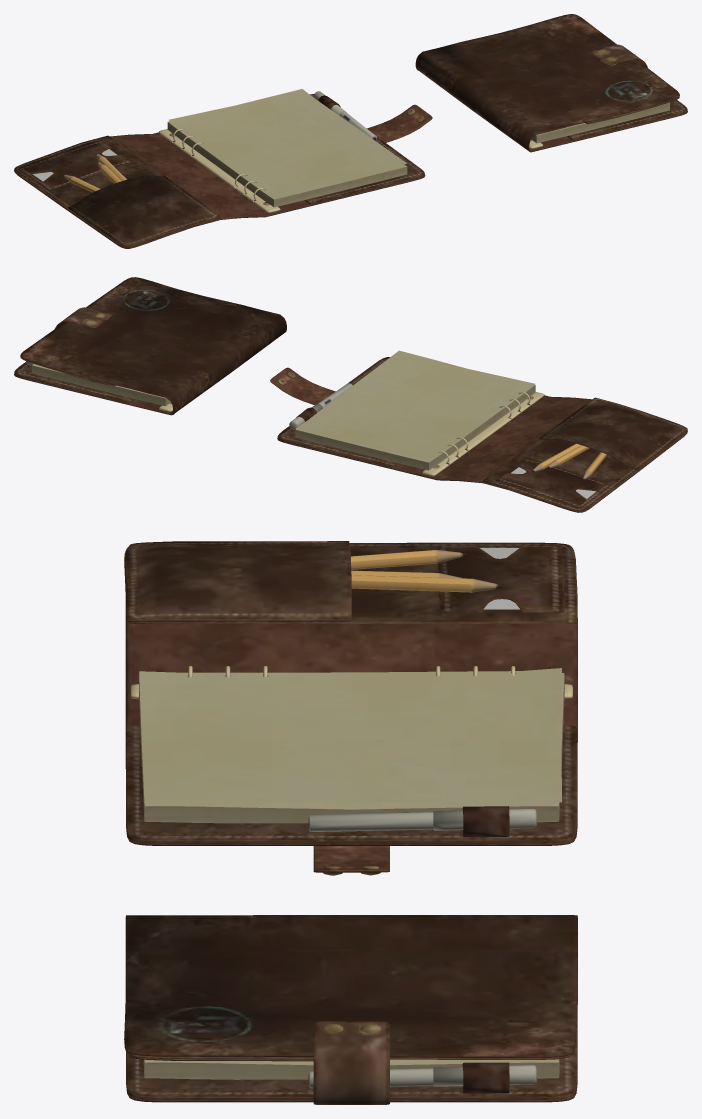
Rendered from binder_notebook.b1946a05.glb.
3 views of the same model, one above another, from view 1: azimuth 30°, elevation 25°; view 2: azimuth 150°, elevation 25°; view 3: azimuth 270°, elevation 25° (orthographic). The views are drawn at different scales.
Visible parts, largest first — view 1: binder_notebook, binder_notebook_closed; view 2: binder_notebook, binder_notebook_closed; view 3: binder_notebook, binder_notebook_closed.
Part boxes in pixels (<box>): binder_notebook: <box>14,89,432,248</box>; binder_notebook_closed: <box>415,14,687,152</box>; binder_notebook: <box>270,350,687,512</box>; binder_notebook_closed: <box>14,277,286,415</box>; binder_notebook: <box>124,541,577,875</box>; binder_notebook_closed: <box>124,915,577,1104</box>.
Bounding box in the file's own units: 0.95 × 0.041 × 0.3253.
1 material, 1 textured.
